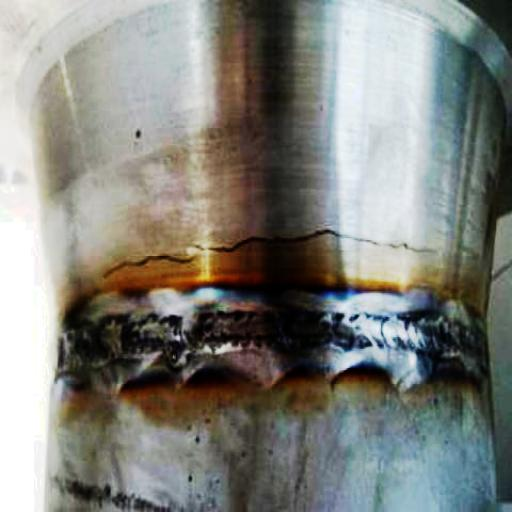crack: (90, 221, 455, 281)
